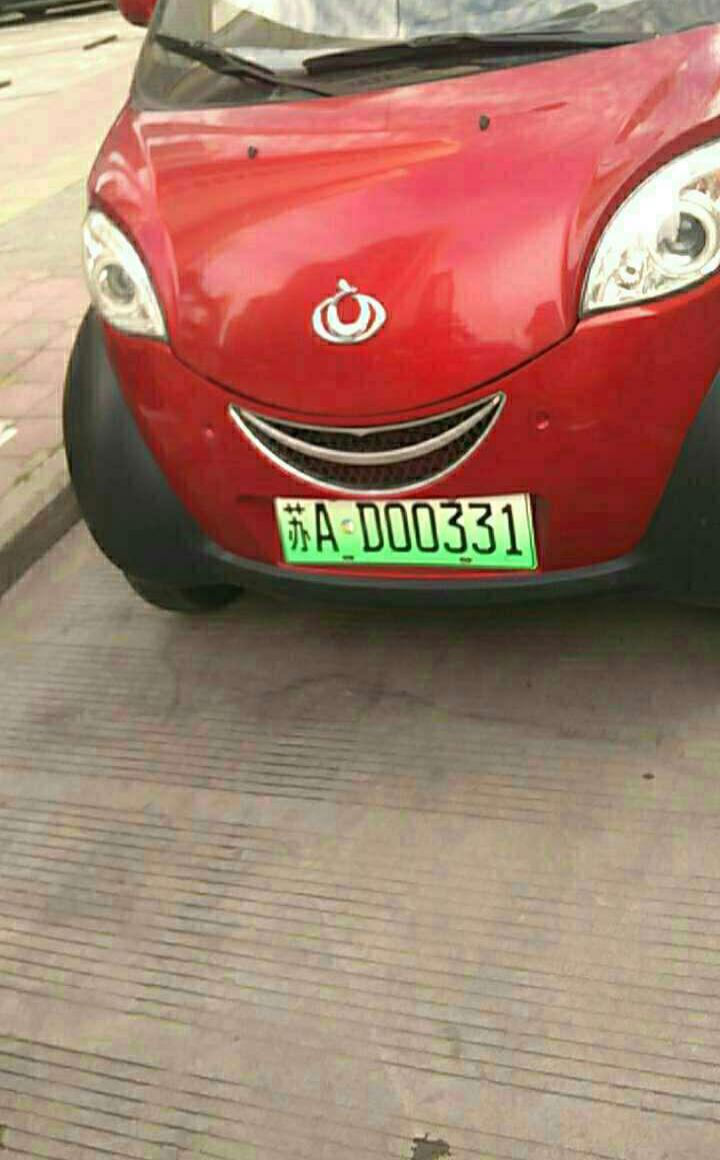car_id: (274, 493, 538, 563)
